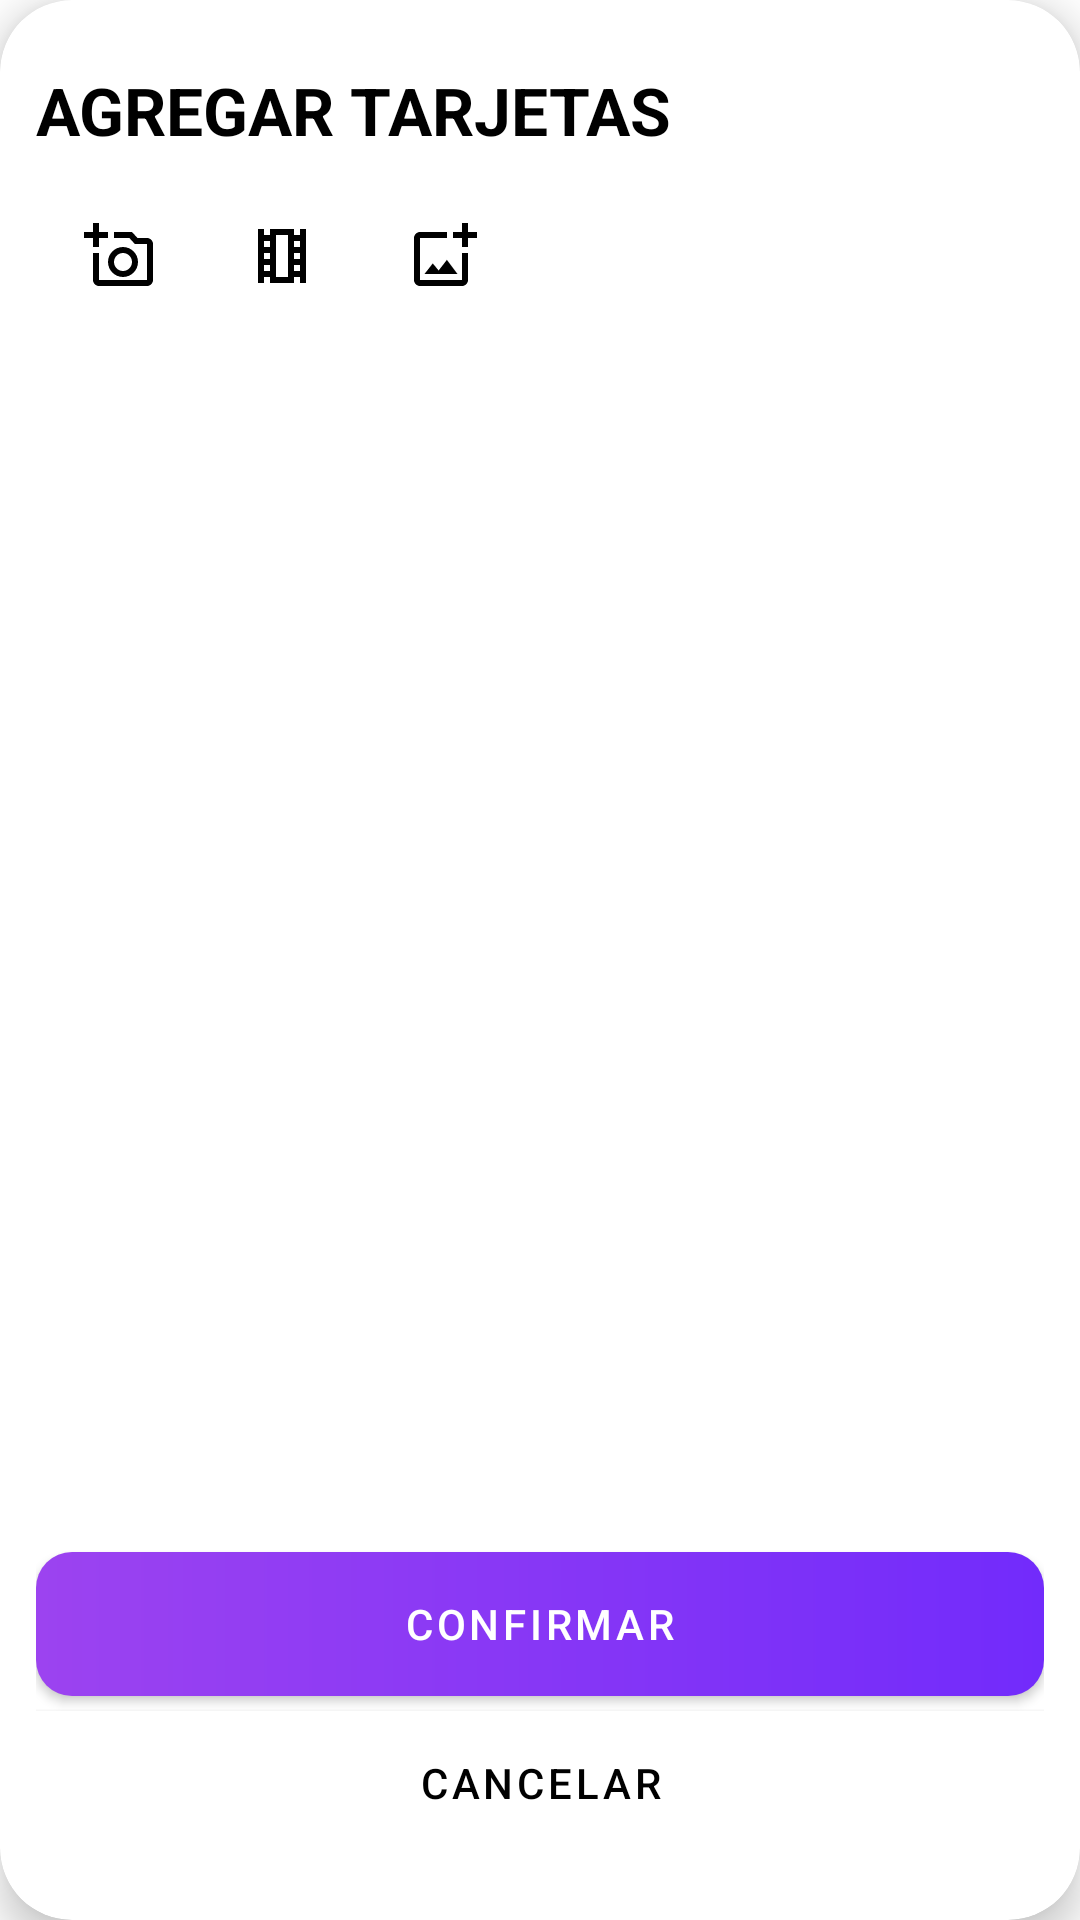

Locate icon controls on the screen. Image size 1080×1920, boxes as box(x1, y1, x2, y2).
camera: box(84, 223, 153, 286)
gallery: box(414, 223, 477, 286)
videocam: box(258, 229, 306, 283)
